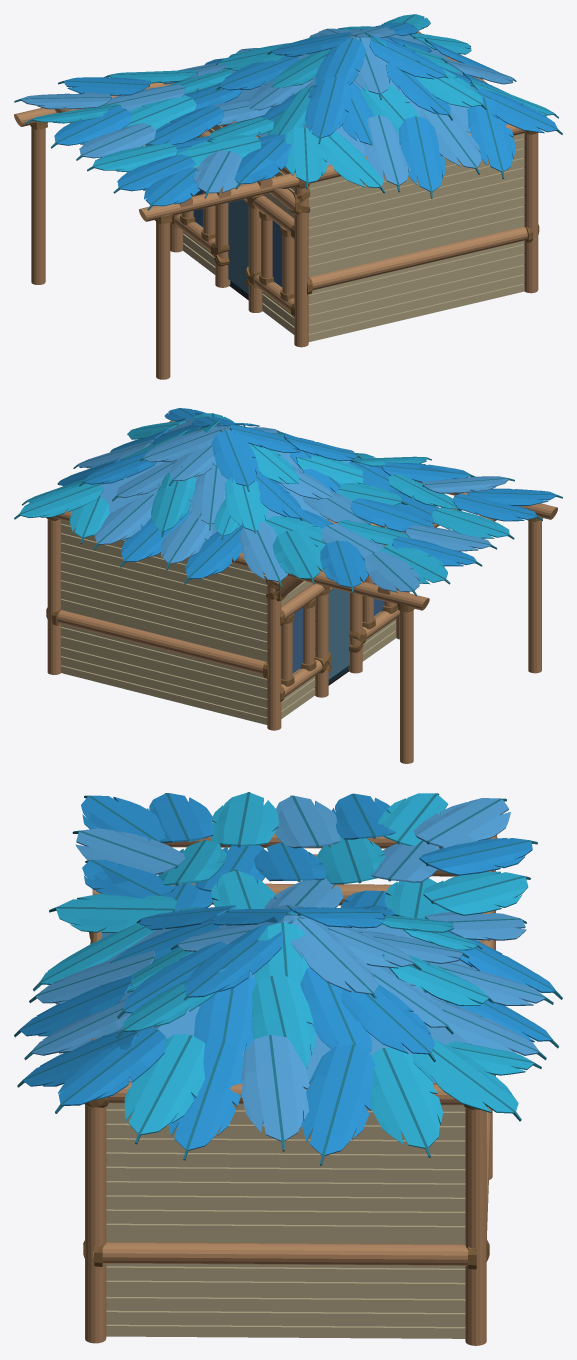
File: Casa03.gltf
3 renders of one model, top to bottom at view 1: azimuth 30°, elevation 25°; view 2: azimuth 150°, elevation 25°; view 3: azimuth 270°, elevation 25°, orthographic. The views are drawn at different scales.
Visible parts, largest first — view 1: Casa Praia 3.001; view 2: Casa Praia 3.001; view 3: Casa Praia 3.001.
Part boxes in pixels (x1,y1,x2,y2): Casa Praia 3.001: (14, 14, 562, 379); Casa Praia 3.001: (14, 408, 562, 763); Casa Praia 3.001: (14, 792, 562, 1345).
Size of the model in its own units: 1.85 by 0.924 by 1.33.
